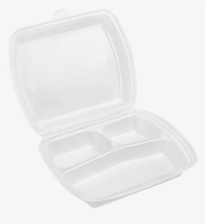foam_box: (1, 0, 202, 212)
